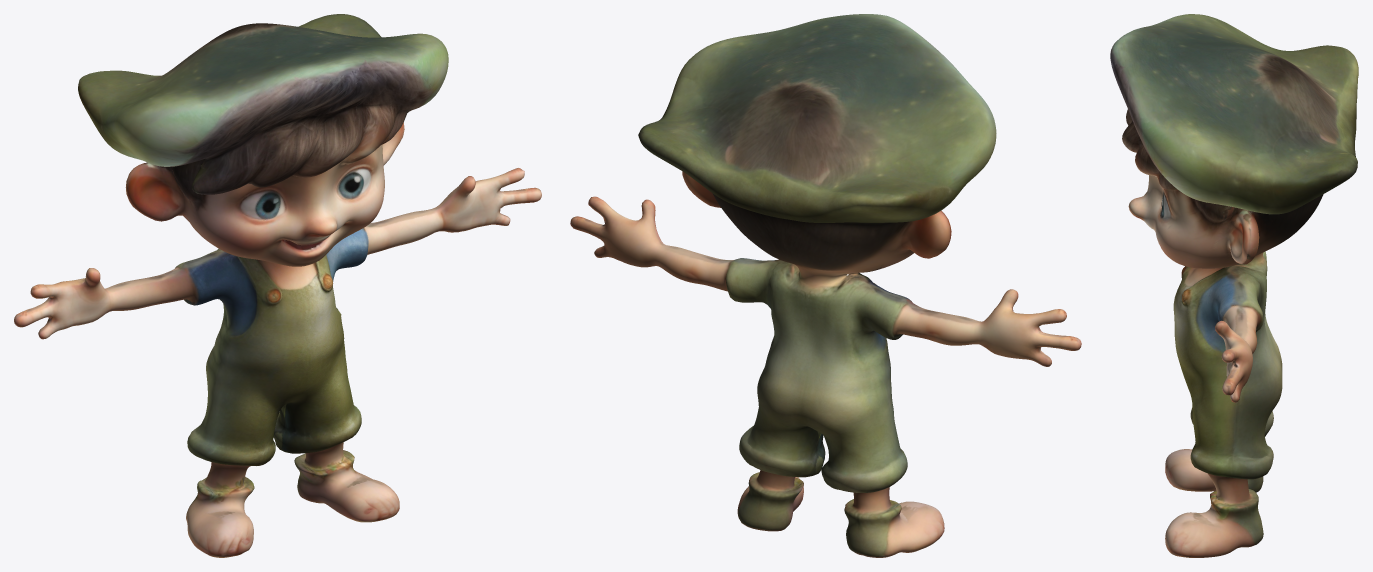
The model's file is boy2.glb.
The picture shows the model from 3 angles, left to right: view 1: azimuth 30°, elevation 25°; view 2: azimuth 150°, elevation 25°; view 3: azimuth 270°, elevation 25°; orthographic projection. The views are drawn at different scales.
Bounding box in the file's own units: 1.99 × 1.79 × 0.857.
Materials: 1 (1 with a texture image).
